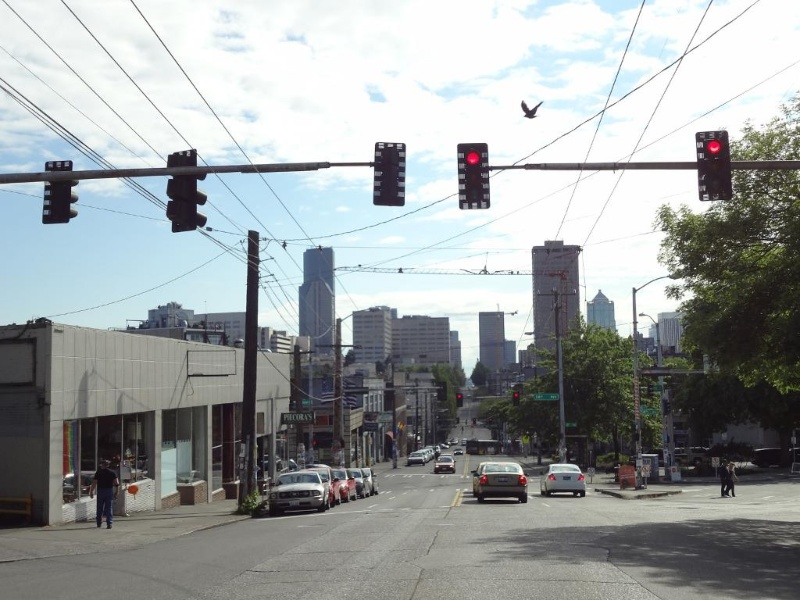red_light: (698, 135, 727, 160), (461, 145, 484, 166)
